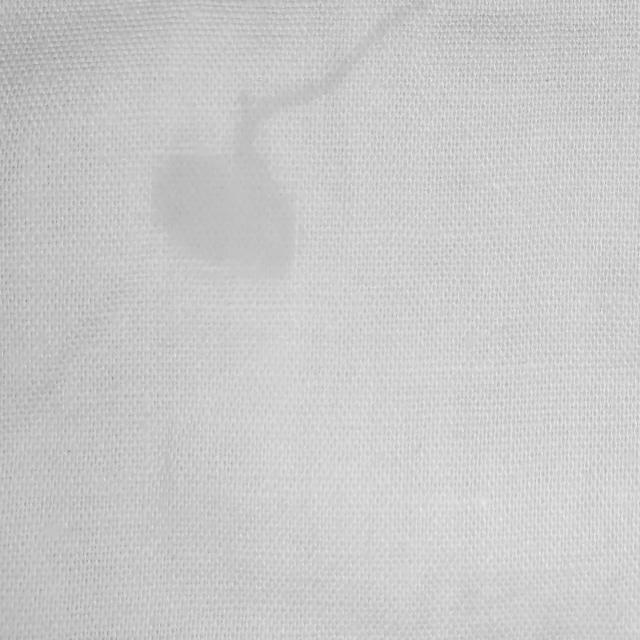Stain: (150, 1, 404, 275)
